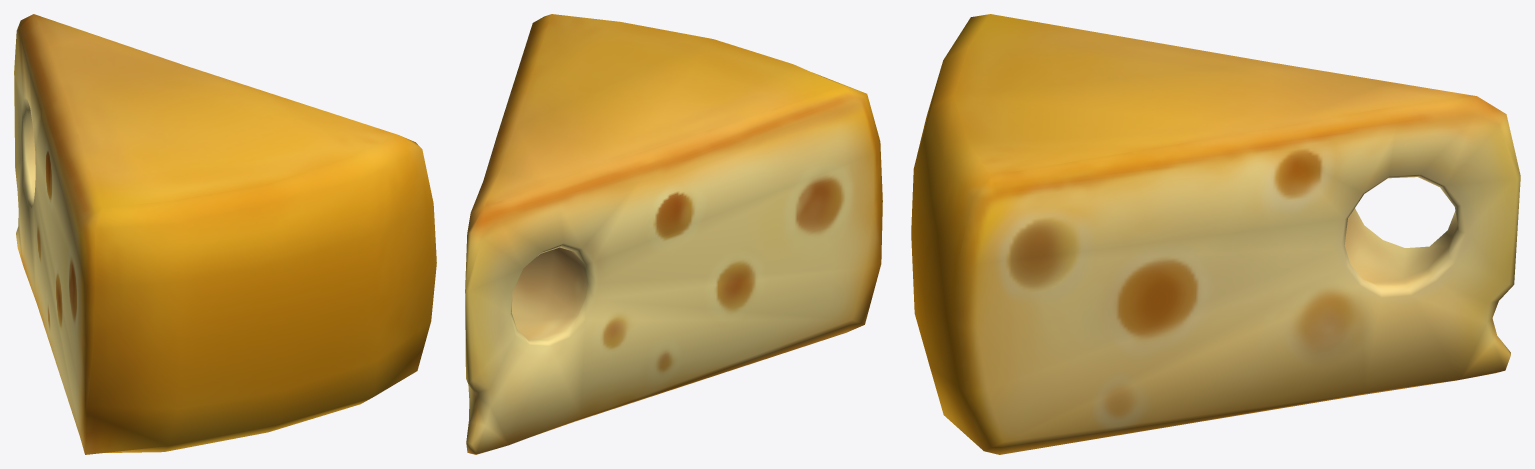
Rendered from cheese-6aca23.glb.
The picture shows the model from 3 angles, left to right: view 1: azimuth 30°, elevation 25°; view 2: azimuth 150°, elevation 25°; view 3: azimuth 270°, elevation 25°; orthographic projection. The views are drawn at different scales.
Visible parts, largest first — view 1: PropMesh; view 2: PropMesh; view 3: PropMesh.
Boxes of the visible parts, x1,y1,x2,y2 form: PropMesh: [14, 14, 436, 454]; PropMesh: [465, 14, 882, 454]; PropMesh: [911, 14, 1520, 454].
Size of the model in its own units: 0.2219 by 0.1518 by 0.3.
Materials: 1 (1 with a texture image).
